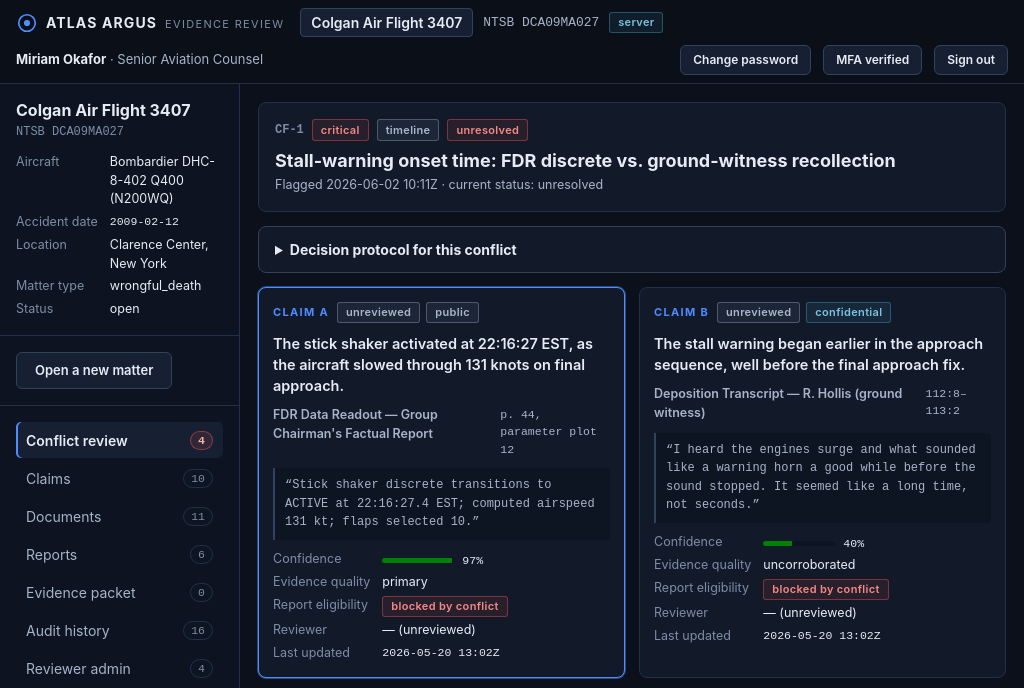
server mode › generates evidence packets server-side and shows the server's manifest
The width and height of the screenshot is (1024, 688).
Click the button "Evidence packet 0" at x=120, y=592, box [16,574,223,610]
(page scrolled)
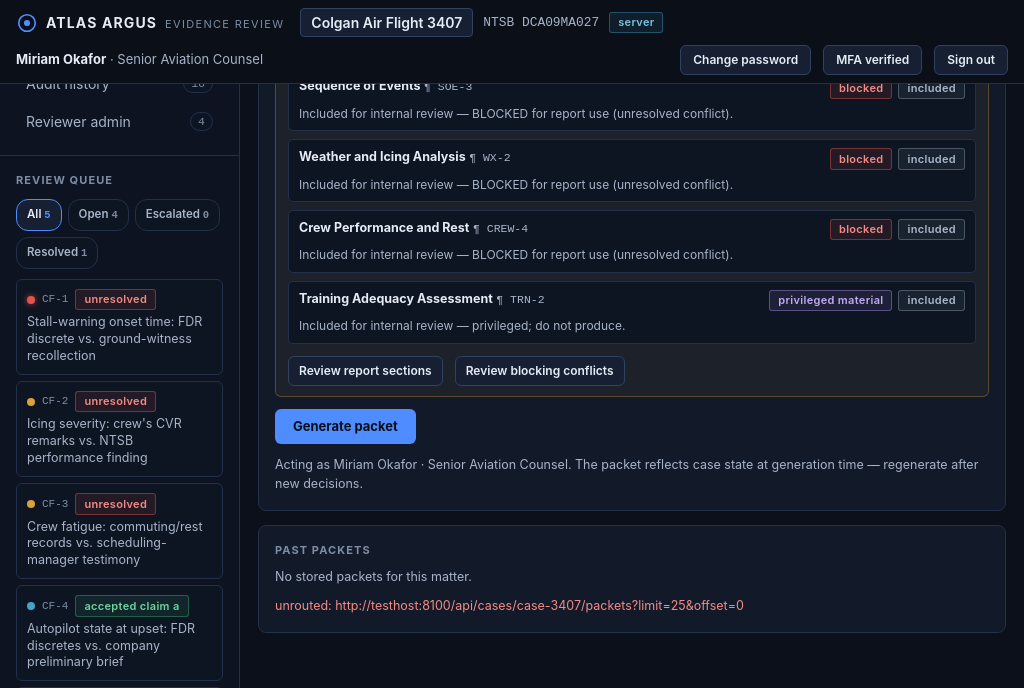
Click the button "Generate packet" at x=345, y=426, box [275,409,416,444]
(page scrolled)
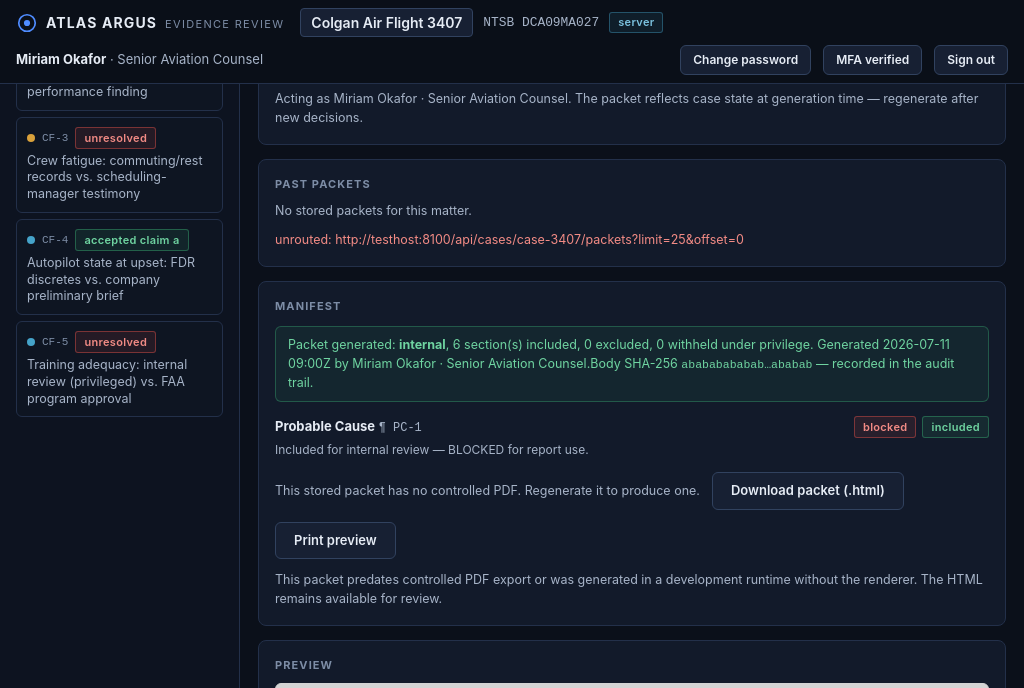
Check: the message shows "Packet generated: internal, 6 section(s) included", box [275,326,989,402]
Check: the message shows "Miriam Okafor · Senior Aviation Counsel", box [331,356,590,371]
Check: the text "Probable Cause" is shown, box [275,418,375,434]
